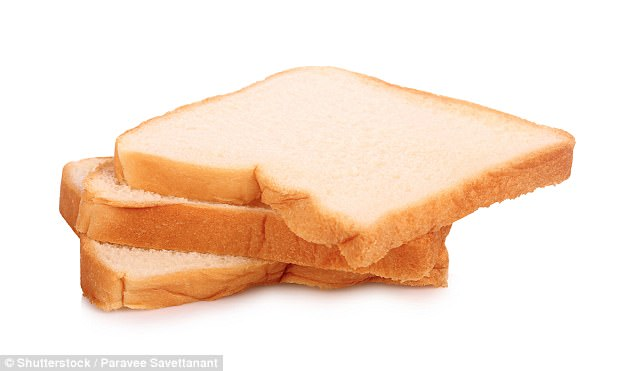slice of bread: (55, 75, 584, 309)
